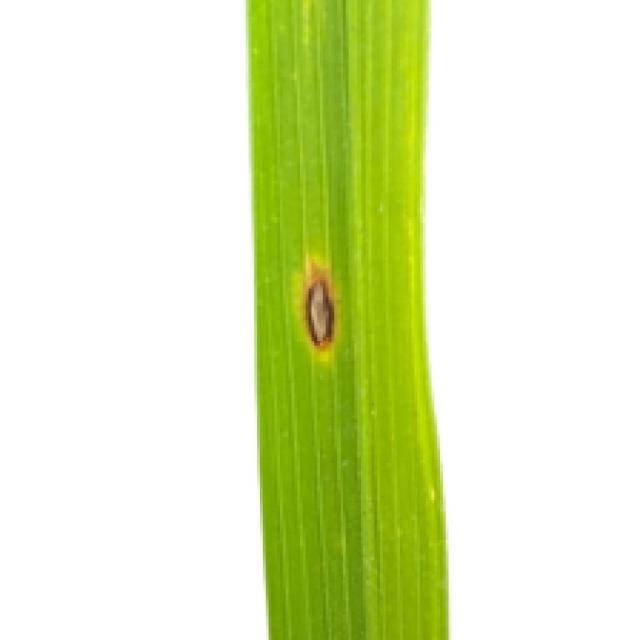Rice___Rice_Blast: (244, 0, 454, 637)
